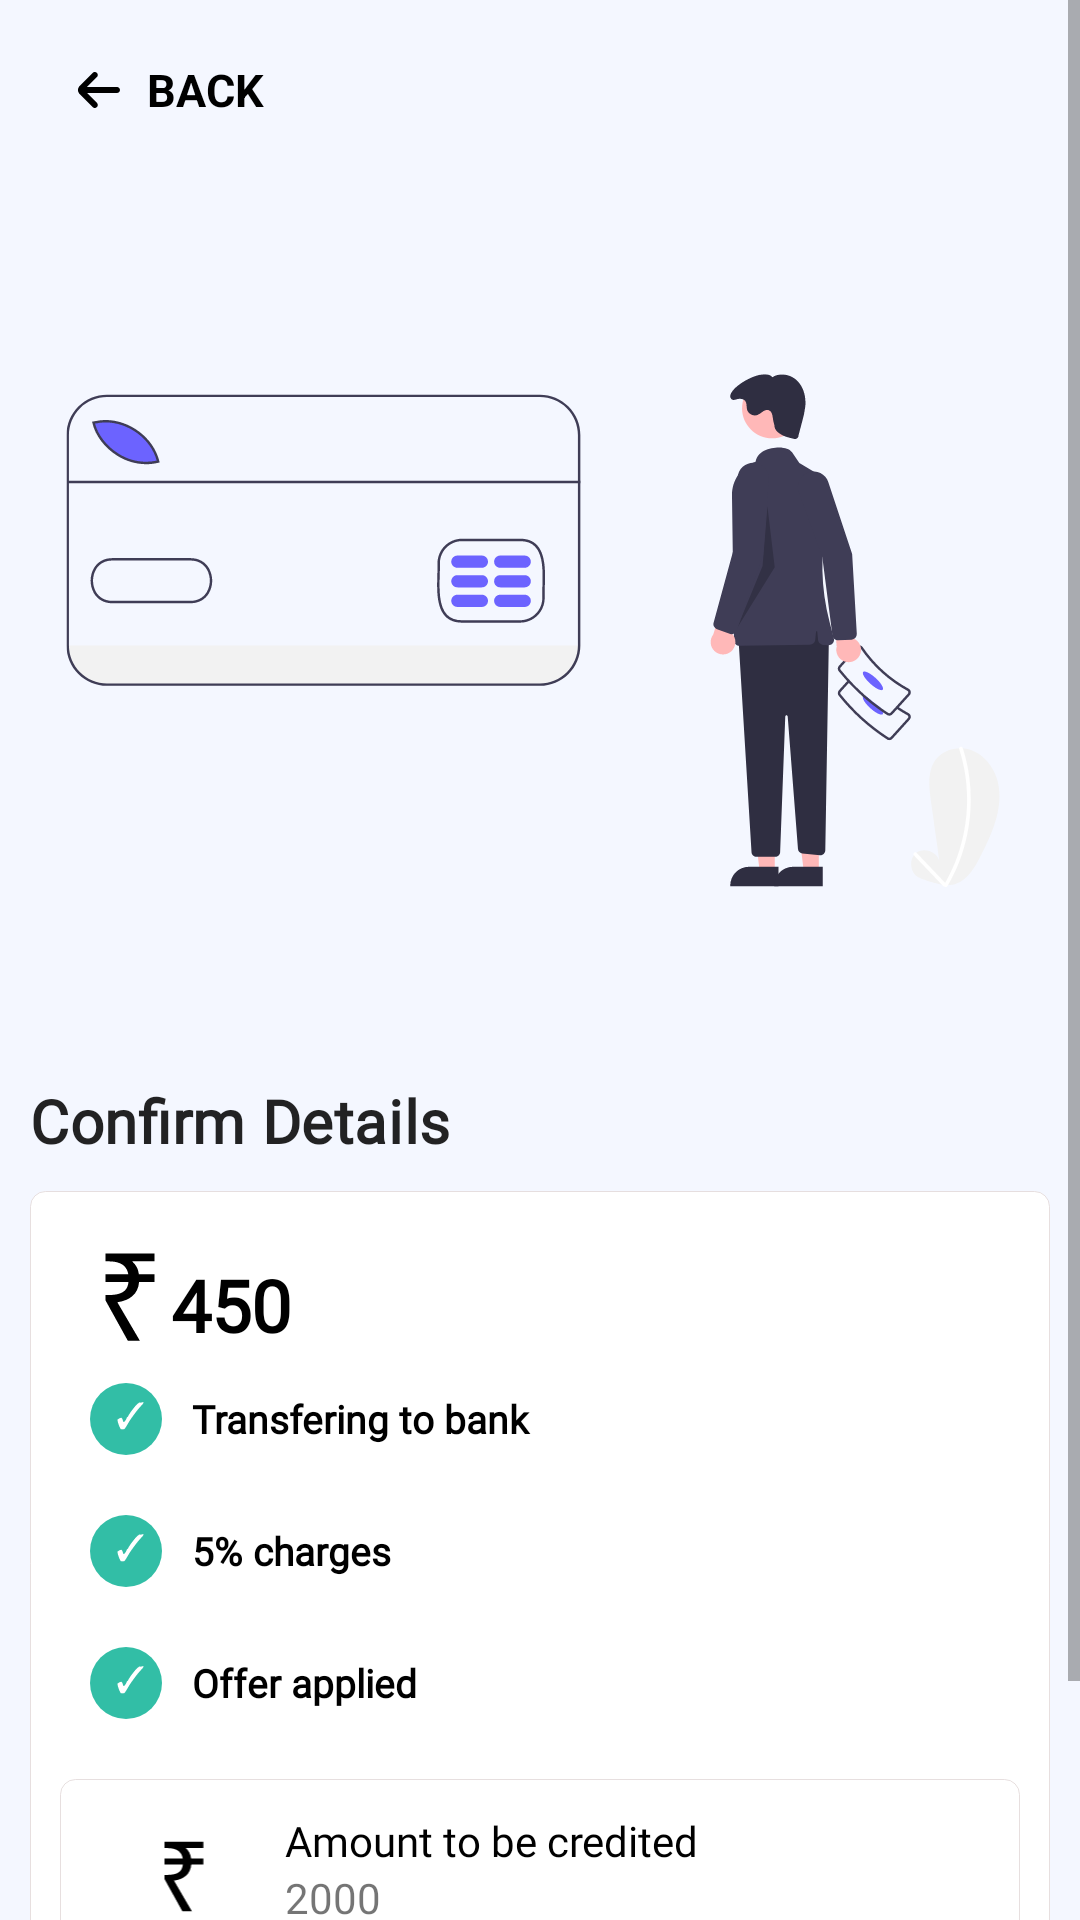

Screen size 1080w x 1920h. Icon name, then its center in pixels as point (x, y):
rupee: point (184, 1876)
